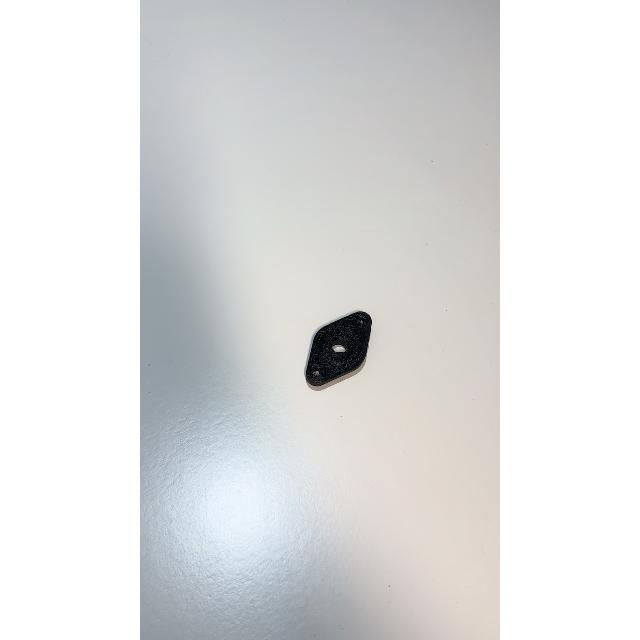Pieza_2: (287, 296, 393, 404)
